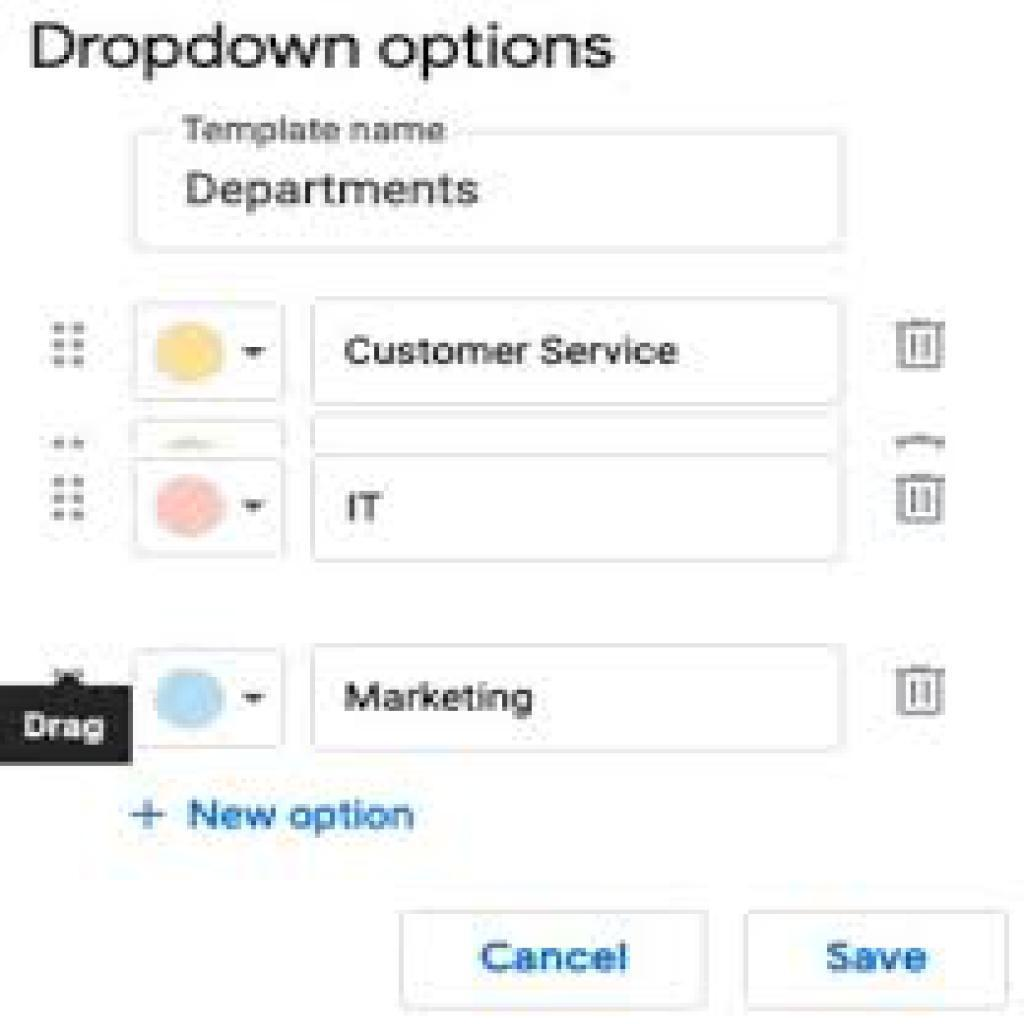button: (402, 915, 704, 1007), (746, 913, 1011, 1014)
icon: (891, 426, 959, 522), (885, 656, 959, 725), (887, 304, 952, 377)
input: (137, 132, 843, 246), (317, 299, 843, 408), (310, 644, 841, 750), (313, 455, 841, 557)
